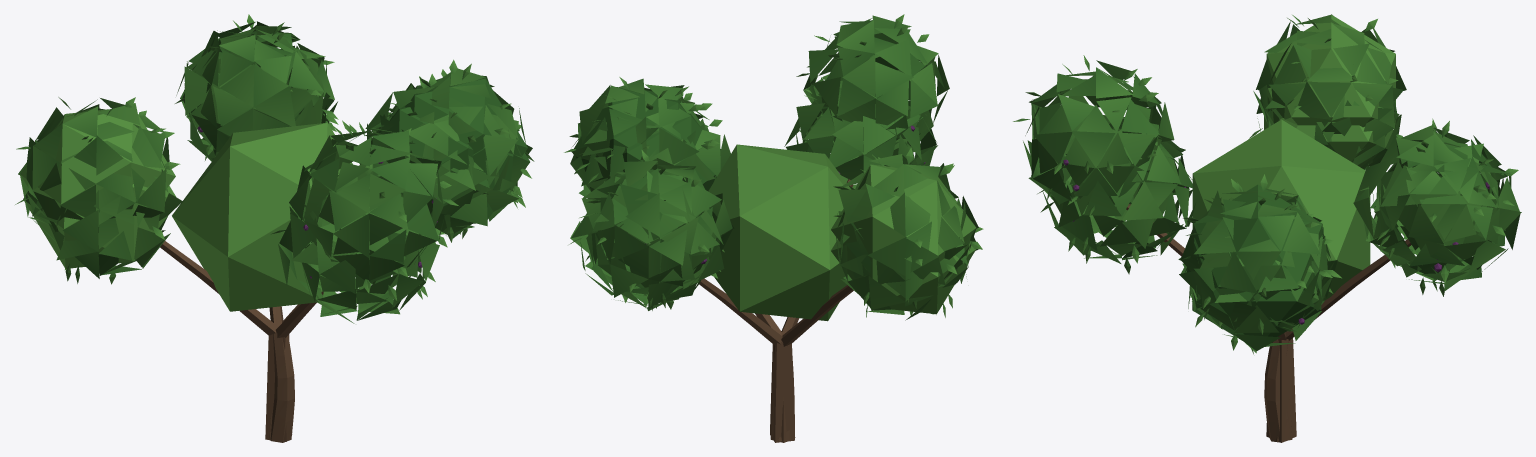
Rendered from plum.glb.
The picture shows the model from 3 angles, left to right: view 1: azimuth 30°, elevation 25°; view 2: azimuth 150°, elevation 25°; view 3: azimuth 270°, elevation 25°; orthographic projection. The views are drawn at different scales.
Visible parts, largest first — view 1: leaves (×3), trunk; view 2: leaves (×3), trunk; view 3: leaves (×3), trunk.
Part boxes in pixels (x1=…): leaves (×3): x1=15, y1=14, x2=534, y2=441; trunk: x1=160, y1=241, x2=323, y2=442; leaves (×3): x1=564, y1=14, x2=983, y2=442; trunk: x1=699, y1=179, x2=853, y2=441; leaves (×3): x1=1013, y1=14, x2=1521, y2=442; trunk: x1=1126, y1=204, x2=1411, y2=442.
Size of the model in its own units: 1.28 by 1 by 1.25.
